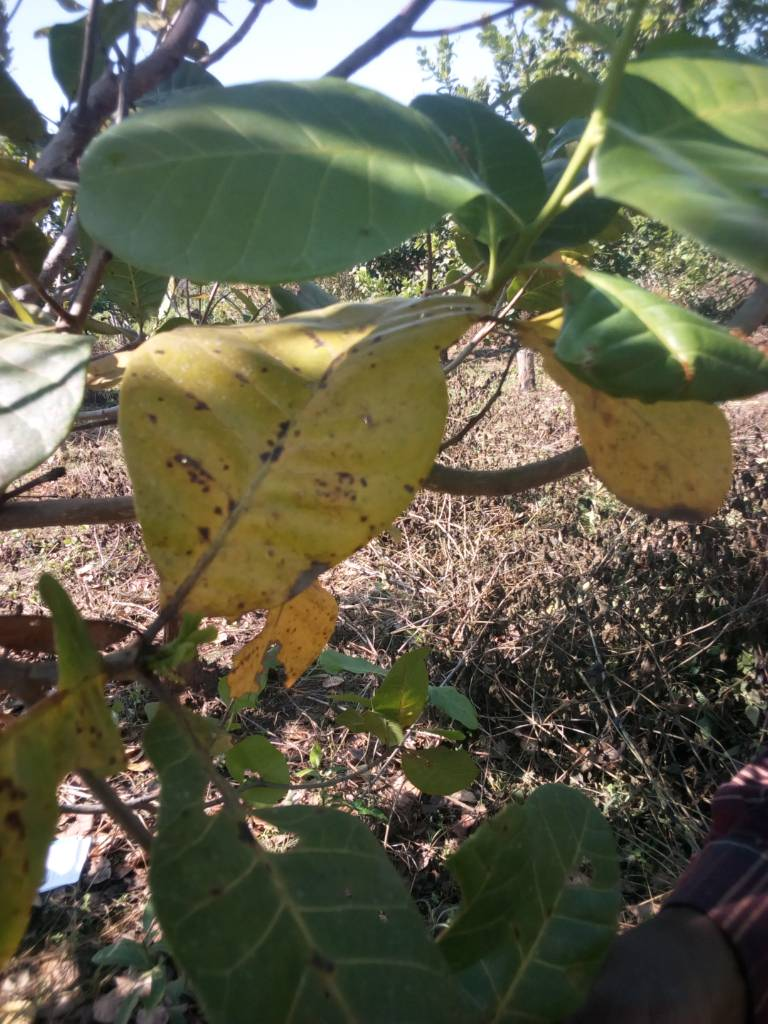Anthracnose: (118, 289, 454, 682)
